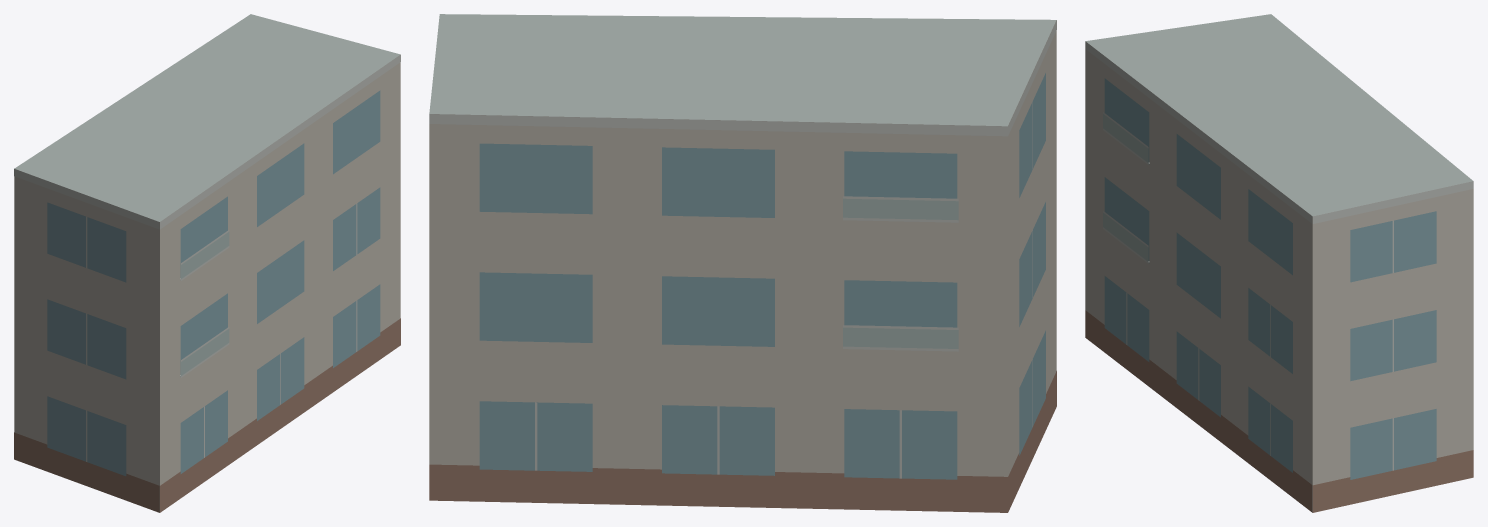
The model's file is survey-upis-32773036.glb.
The picture shows the model from 3 angles, left to right: view 1: azimuth 30°, elevation 25°; view 2: azimuth 150°, elevation 25°; view 3: azimuth 270°, elevation 25°; orthographic projection. The views are drawn at different scales.
Parts seen in each view (by area): view 1: survey-upis-32773036.tmp; view 2: survey-upis-32773036.tmp; view 3: survey-upis-32773036.tmp.
Part boxes in pixels (<box>): survey-upis-32773036.tmp: <box>14,14,400,512</box>; survey-upis-32773036.tmp: <box>429,14,1056,512</box>; survey-upis-32773036.tmp: <box>1085,14,1473,512</box>.
Size of the model in its own units: 13.78 by 9.4 by 11.17.
